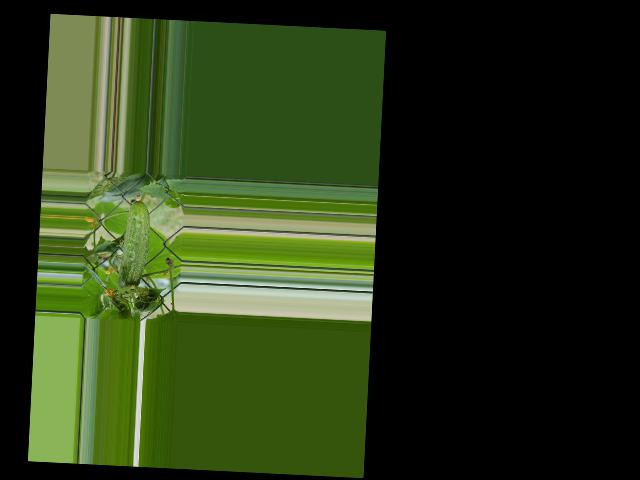cucumber: (118, 194, 151, 294)
